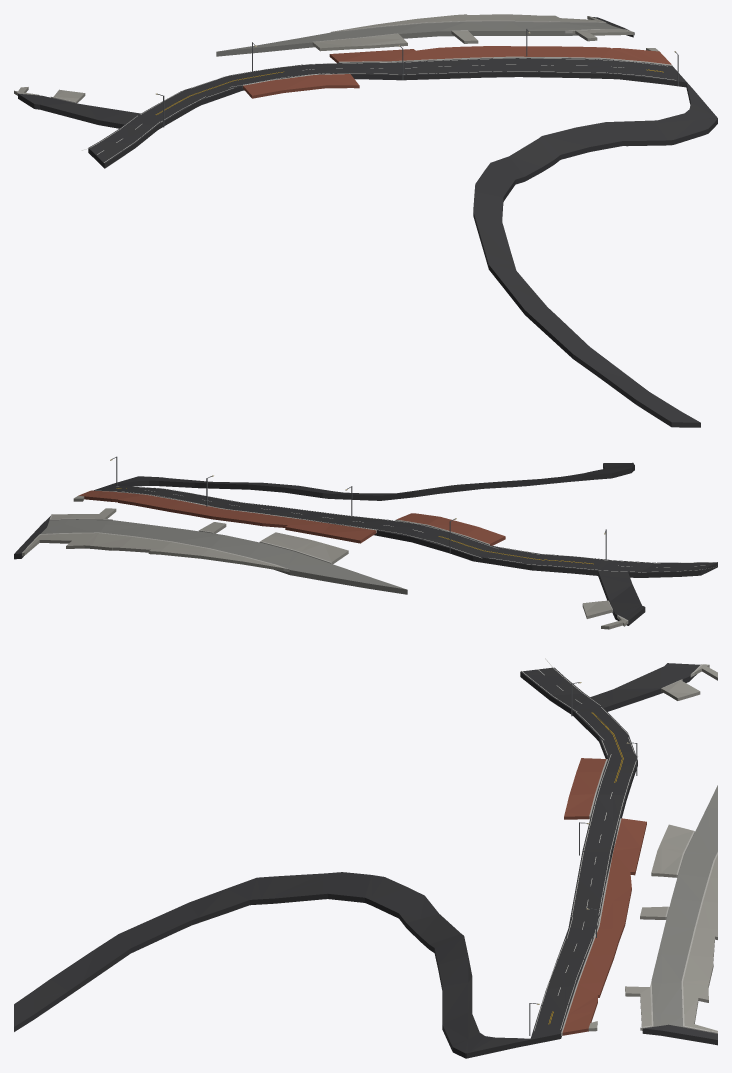
3 views of the same model, one above another, from view 1: azimuth 30°, elevation 25°; view 2: azimuth 150°, elevation 25°; view 3: azimuth 270°, elevation 25° (orthographic). The views are drawn at different scales.
Bounding box in the file's own units: 150 × 48.6 × 146.
